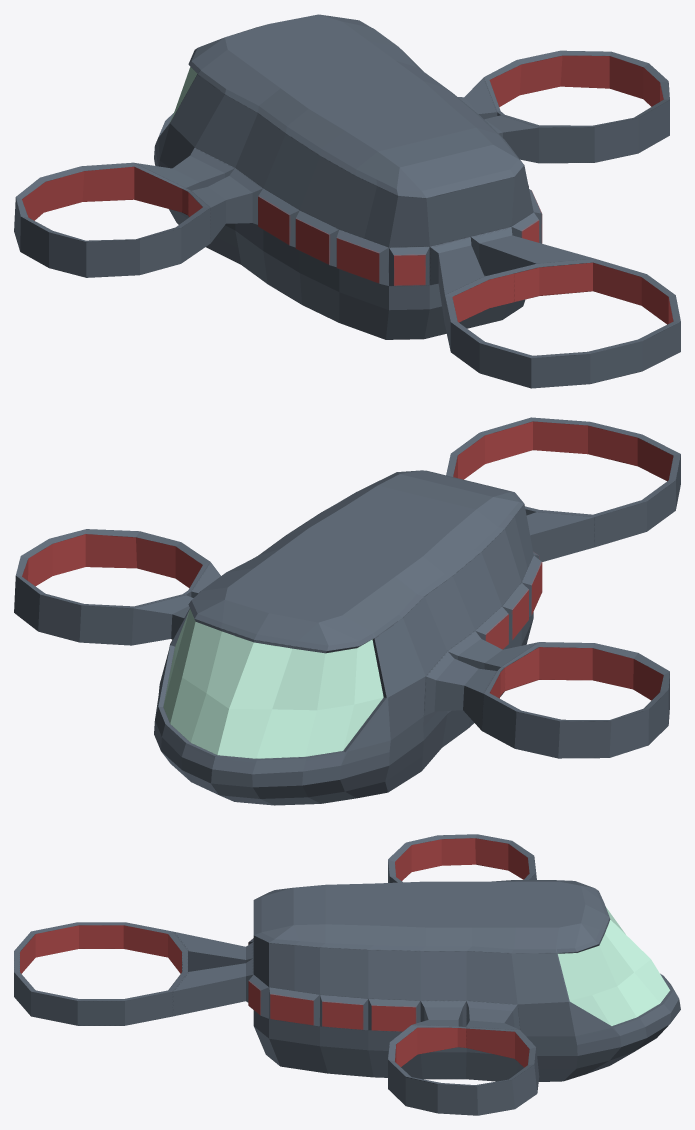
The model's file is Drone.fbx.
The picture shows the model from 3 angles, top to bottom: view 1: azimuth 30°, elevation 25°; view 2: azimuth 150°, elevation 25°; view 3: azimuth 270°, elevation 25°; orthographic projection. The views are drawn at different scales.
Visible parts, largest first — view 1: Drone; view 2: Drone; view 3: Drone.
Part boxes in pixels (<box>): Drone: <box>14,14,680,388</box>; Drone: <box>14,417,680,805</box>; Drone: <box>14,834,680,1115</box>.
Bounding box in the file's own units: 889 × 221 × 994.
